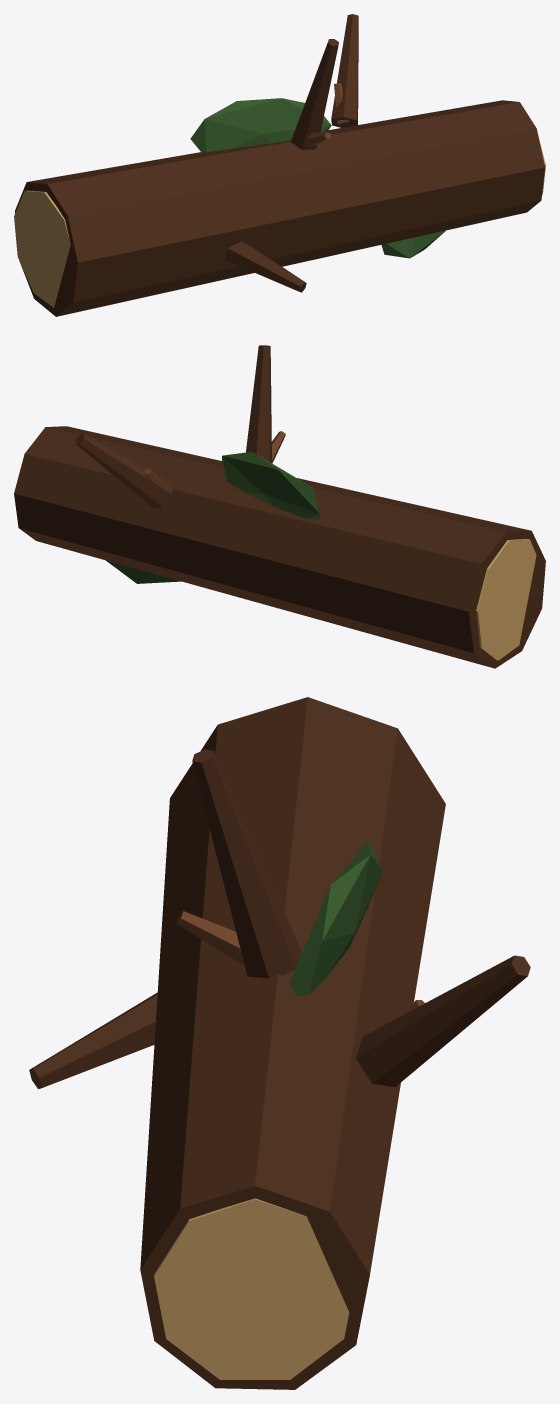
Rendered from fallen_log_b.glb.
3 renders of one model, top to bottom at view 1: azimuth 30°, elevation 25°; view 2: azimuth 150°, elevation 25°; view 3: azimuth 270°, elevation 25°, orthographic. The views are drawn at different scales.
Parts seen in each view (by area): view 1: Log.001, Cut_A.001, Moss_1.001, Branch_1.013, Branch_2.013, Branch_3.013, Moss_2.001; view 2: Log.001, Cut_A.001, Moss_1.001, Branch_1.013, Branch_2.013, Moss_2.001; view 3: Log.001, Cut_B.001, Branch_2.013, Branch_1.013, Moss_1.001, Branch_3.013, Twig_2.
Boxes of the visible parts, x1=… form: Log.001: x1=15, y1=100, x2=545, y2=316; Cut_A.001: x1=14, y1=190, x2=70, y2=307; Moss_1.001: x1=190, y1=98, x2=331, y2=152; Branch_1.013: x1=331, y1=14, x2=358, y2=127; Branch_2.013: x1=291, y1=39, x2=338, y2=149; Branch_3.013: x1=225, y1=241, x2=306, y2=292; Moss_2.001: x1=381, y1=230, x2=445, y2=258; Log.001: x1=14, y1=426, x2=545, y2=668; Cut_A.001: x1=476, y1=539, x2=536, y2=660; Moss_1.001: x1=222, y1=451, x2=319, y2=519; Branch_1.013: x1=76, y1=434, x2=172, y2=507; Branch_2.013: x1=246, y1=345, x2=271, y2=462; Moss_2.001: x1=106, y1=560, x2=181, y2=583; Log.001: x1=140, y1=697, x2=445, y2=1389; Cut_B.001: x1=154, y1=1198, x2=349, y2=1379; Branch_2.013: x1=192, y1=749, x2=301, y2=978; Branch_1.013: x1=356, y1=955, x2=530, y2=1087; Moss_1.001: x1=289, y1=841, x2=382, y2=996; Branch_3.013: x1=29, y1=992, x2=157, y2=1089; Twig_2: x1=176, y1=911, x2=244, y2=965.
Bounding box in the file's own units: 3.04 × 1.54 × 1.42.
